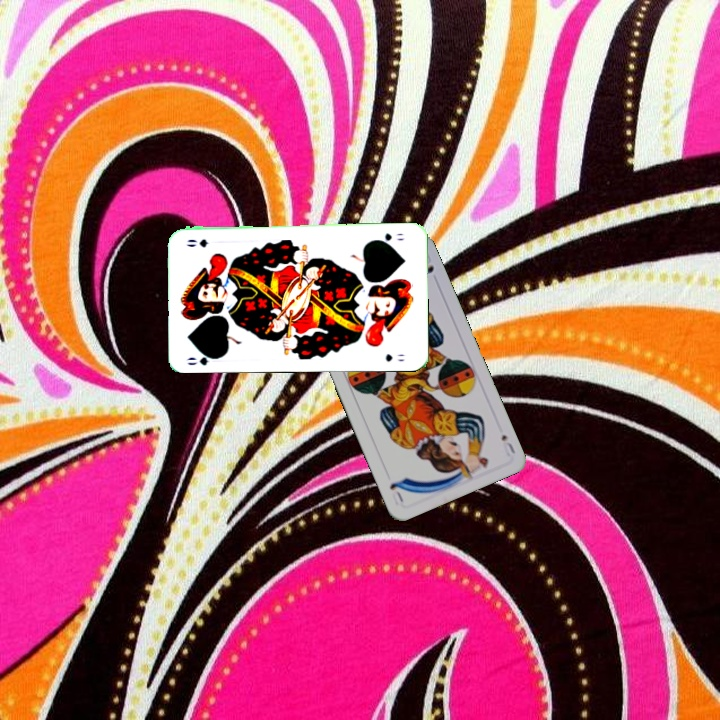GO: (183, 348, 223, 368), (371, 229, 407, 246)
SU: (497, 430, 518, 459)
